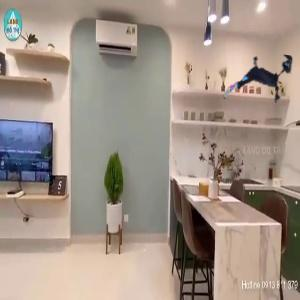drone: (225, 52, 291, 118)
